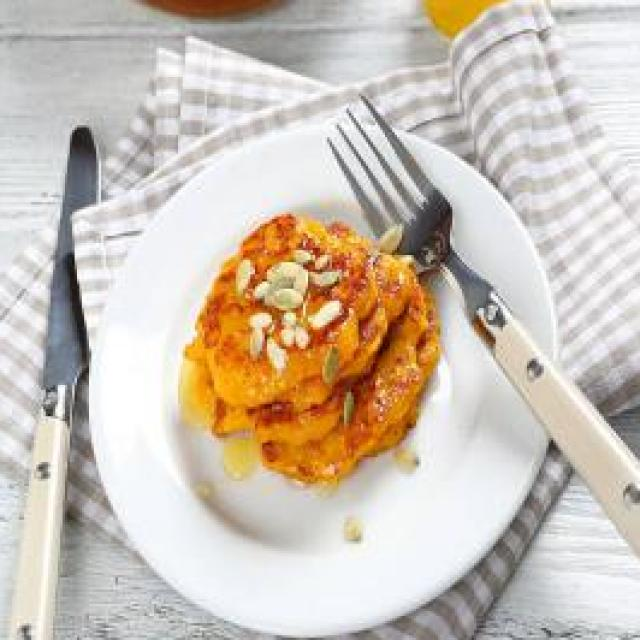knife: (0, 122, 103, 640)
